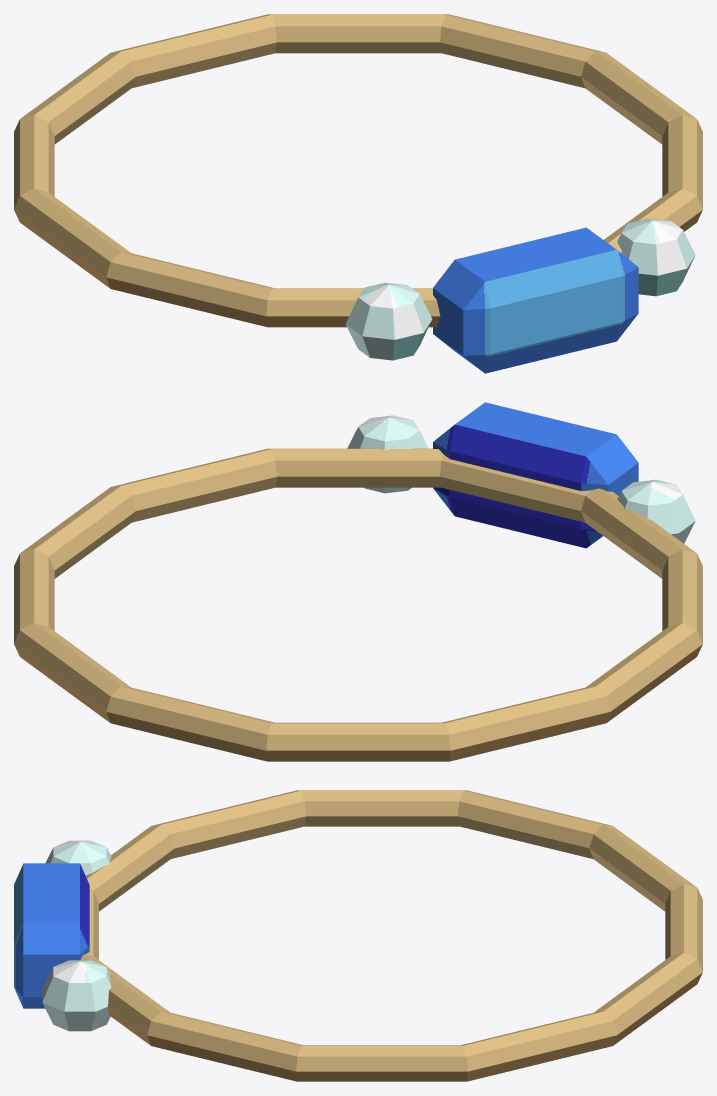
The model's file is wedding ring.fbx.
The picture shows the model from 3 angles, top to bottom: view 1: azimuth 30°, elevation 25°; view 2: azimuth 150°, elevation 25°; view 3: azimuth 270°, elevation 25°; orthographic projection. The views are drawn at different scales.
Parts seen in each view (by area): view 1: torus, beveled_cuboid, sphere_1, sphere; view 2: torus, beveled_cuboid, sphere_1, sphere; view 3: torus, beveled_cuboid, sphere, sphere_1.
Part boxes in pixels (bbox=[...]): torus: bbox=[14, 14, 702, 327]; beveled_cuboid: bbox=[433, 227, 638, 373]; sphere_1: bbox=[345, 282, 432, 360]; sphere: bbox=[617, 218, 695, 296]; torus: bbox=[14, 448, 702, 761]; beveled_cuboid: bbox=[433, 402, 638, 548]; sphere_1: bbox=[617, 479, 695, 543]; sphere: bbox=[347, 415, 428, 493]; torus: bbox=[80, 790, 702, 1081]; beveled_cuboid: bbox=[14, 863, 89, 1008]; sphere: bbox=[42, 960, 111, 1031]; sphere_1: bbox=[45, 840, 111, 875].
Size of the model in its own units: 106 by 15.62 by 114.
Materials: 1 (1 with a texture image).
